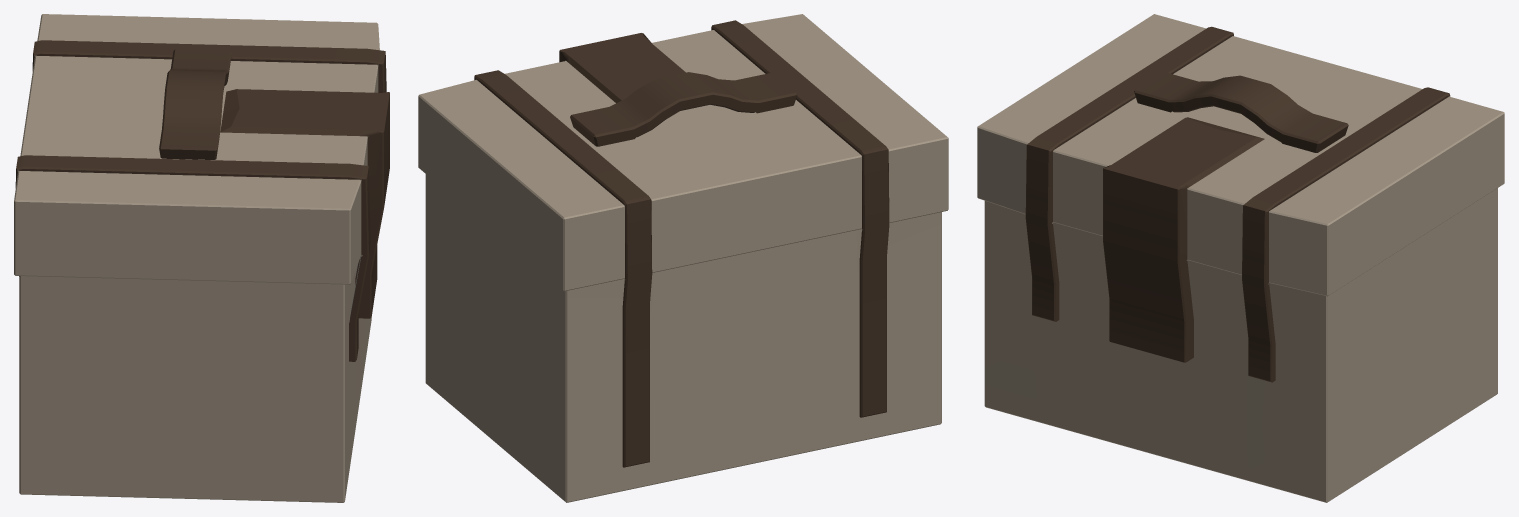
The model's file is smallLuggage_hp.fbx.
3 renders of one model, left to right at view 1: azimuth 30°, elevation 25°; view 2: azimuth 150°, elevation 25°; view 3: azimuth 270°, elevation 25°, orthographic. The views are drawn at different scales.
Visible parts, largest first — view 1: smallLuggage_hp; view 2: smallLuggage_hp; view 3: smallLuggage_hp.
Boxes of the visible parts, x1=… form: smallLuggage_hp: x1=14, y1=14, x2=389, y2=502; smallLuggage_hp: x1=418, y1=14, x2=948, y2=502; smallLuggage_hp: x1=977, y1=14, x2=1504, y2=502.
Size of the model in its own units: 0.4066 by 0.2803 by 0.4296.
